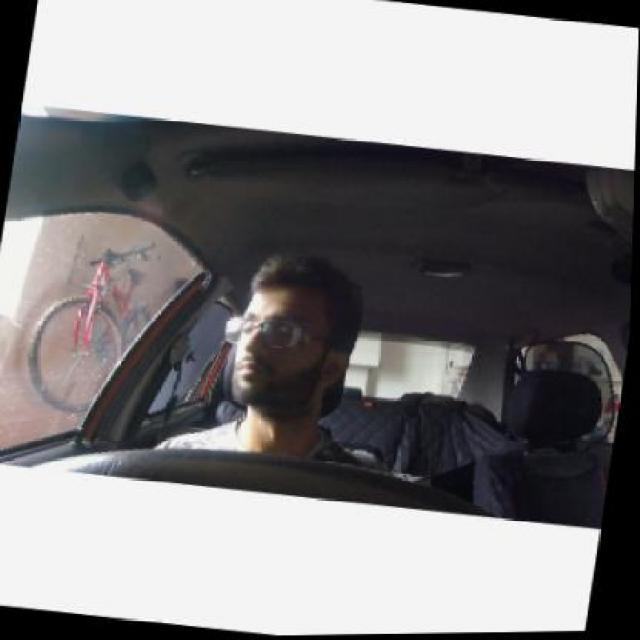drowsy: (228, 256, 357, 411)
